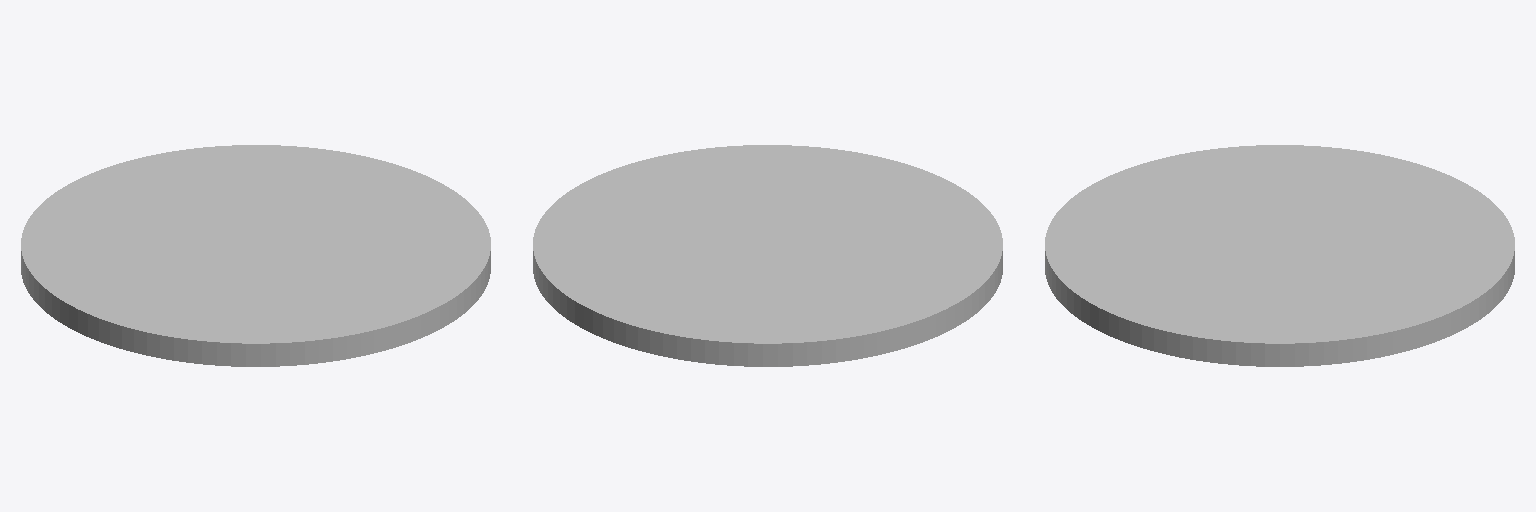
The model's file is lampBase.obj.
3 views of the same model, side by side, from view 1: azimuth 30°, elevation 25°; view 2: azimuth 150°, elevation 25°; view 3: azimuth 270°, elevation 25° (orthographic).
Visible parts, largest first — view 1: lamp2_Cylinder.001; view 2: lamp2_Cylinder.001; view 3: lamp2_Cylinder.001.
Part boxes in pixels (x1,y1,x2,y2): lamp2_Cylinder.001: (21,145,490,366); lamp2_Cylinder.001: (533,145,1002,366); lamp2_Cylinder.001: (1045,145,1514,366).
Bounding box in the file's own units: 0.7487 × 0.041 × 0.7487.